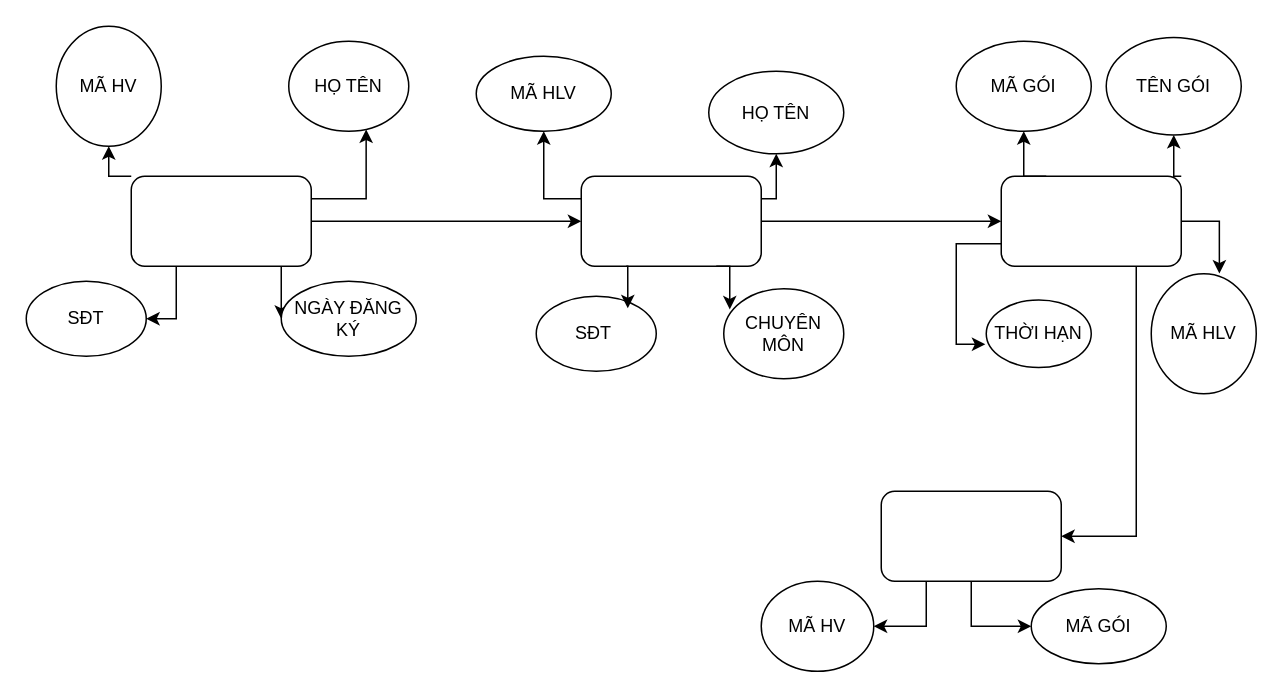
The diagram is 1283 pixels wide and 698 high, and some of its shapes have lost their labels. Here are the shapes that lost their labels. From the top down, the centre of each, then its label:
At point 220,220: "MENBER".
At point 670,220: "TRAINER".
At point 1090,220: "PACKAGE".
At point 970,535: "GEISTRAION".
